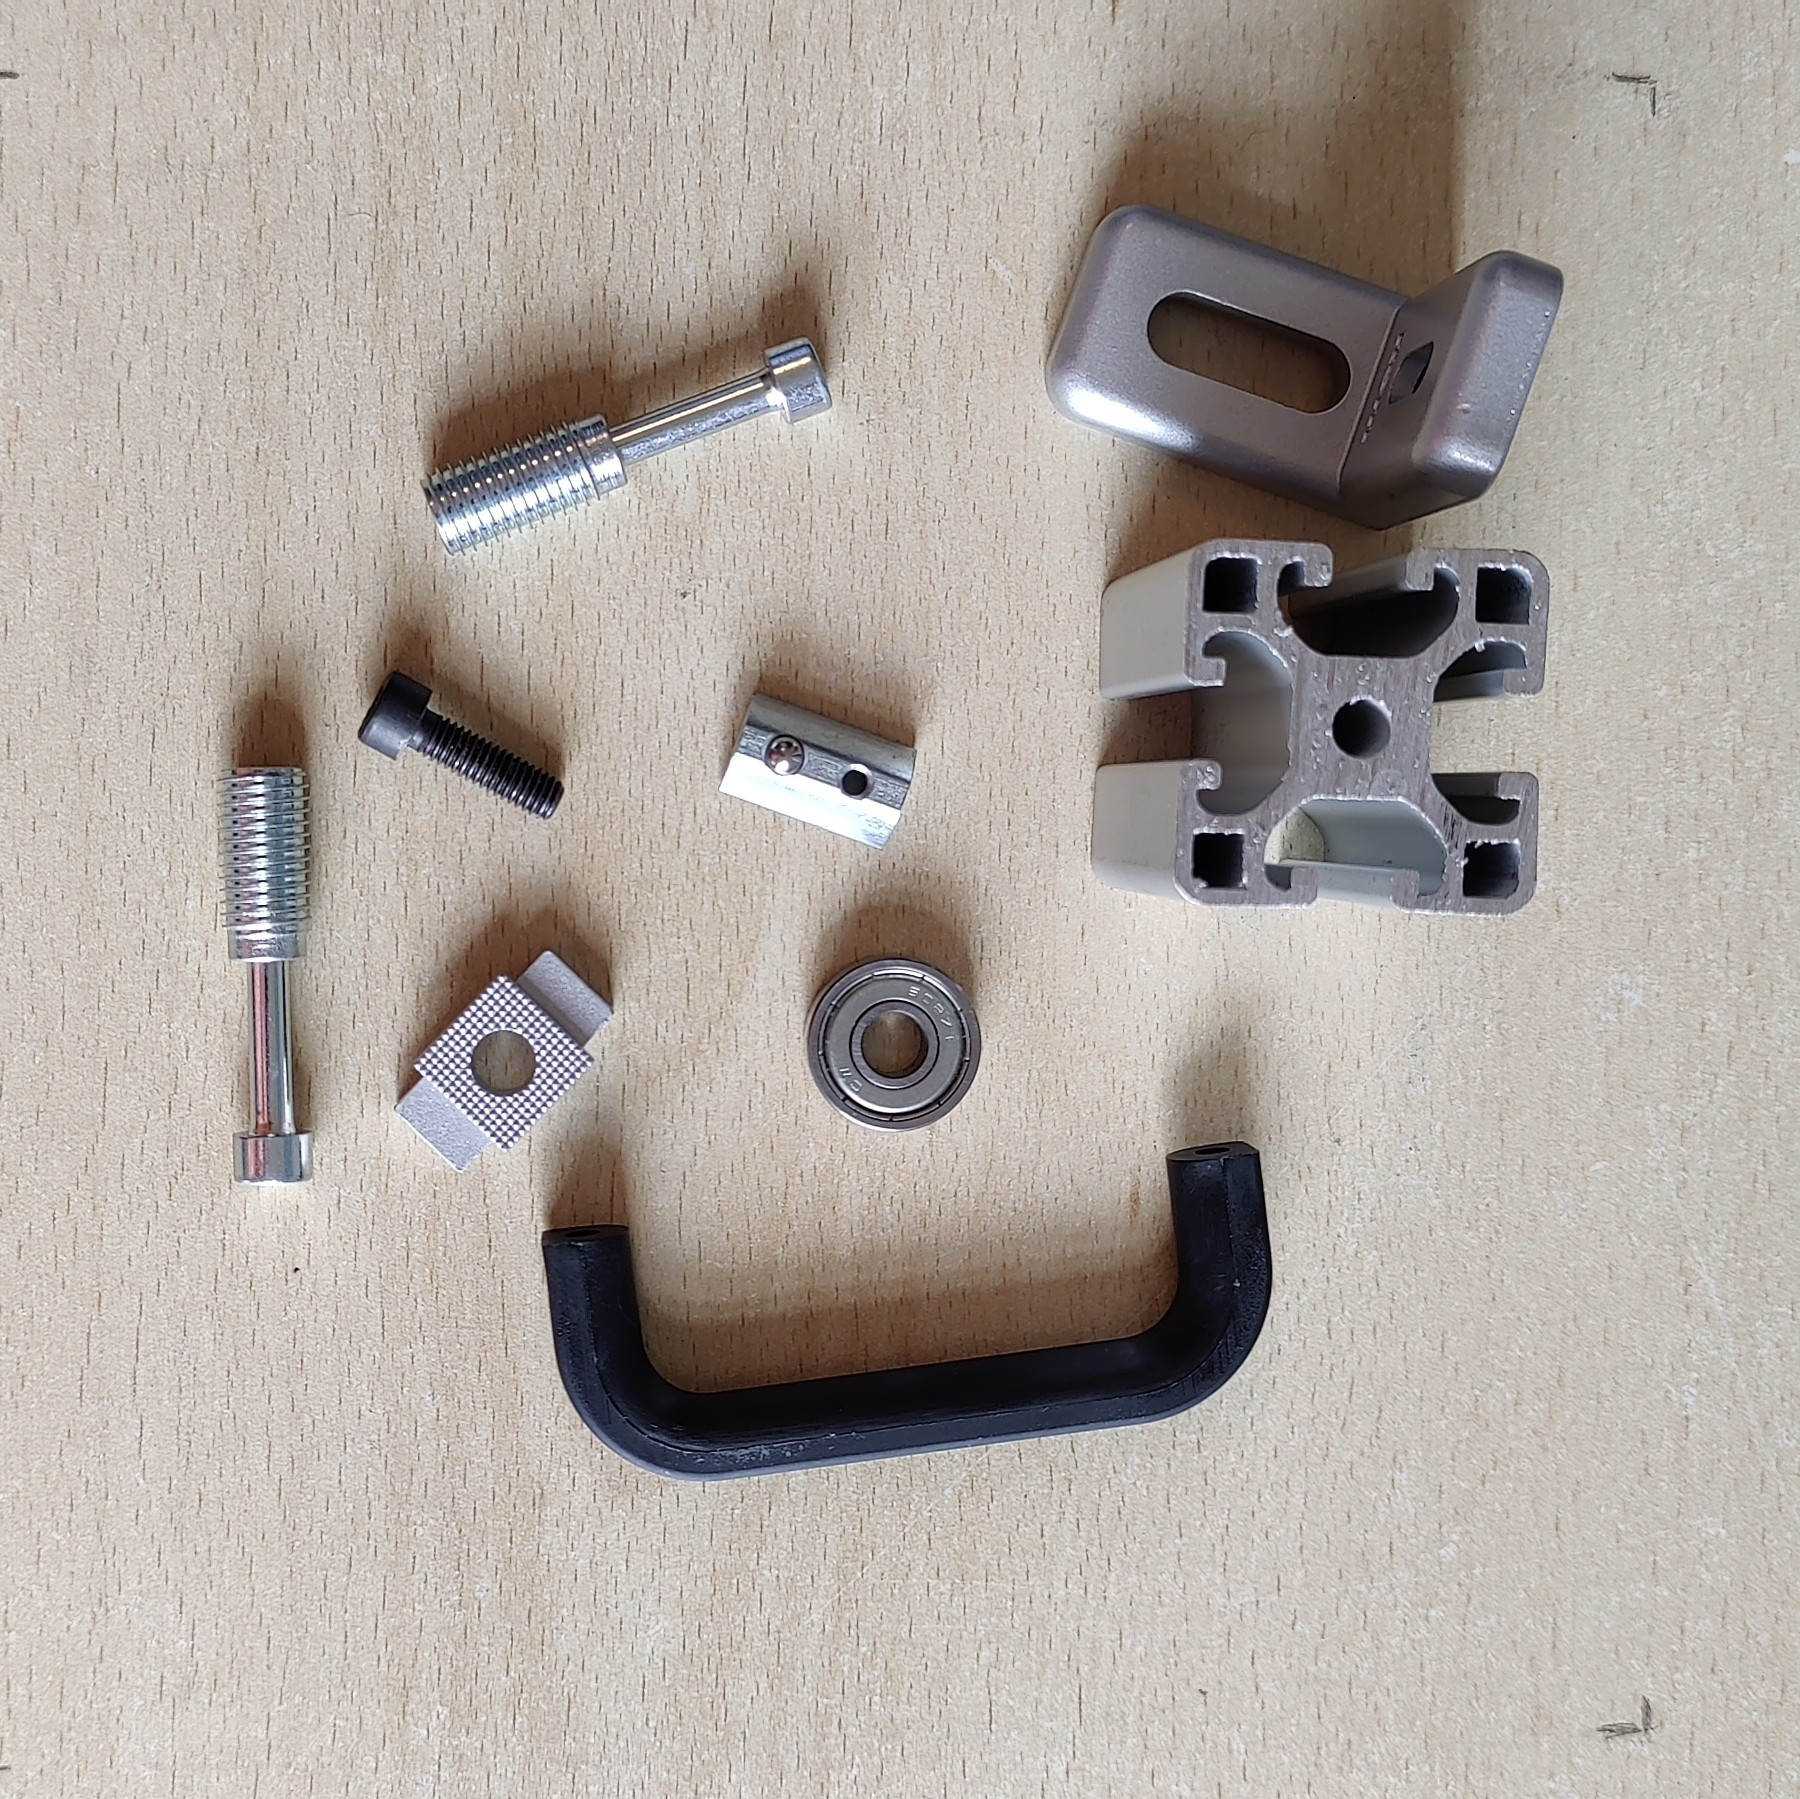Aluminium Extension: (1089, 539, 1551, 918)
Ball Bearing: (804, 952, 983, 1133)
Multiwinkel: (1042, 198, 1563, 534)
Pull Handle: (539, 1140, 1275, 1484)
Shoulder Socket Head Cap Screw: (420, 334, 833, 562), (211, 763, 316, 1189)
Socket Head Cap Screw: (357, 667, 567, 822)
T Nut Square: (390, 947, 616, 1175)
T Spring Nut: (715, 690, 919, 853)
